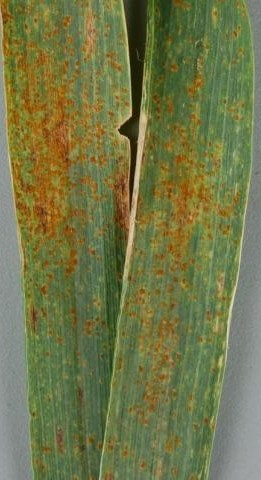Leaf Rust: (5, 28, 237, 309)
